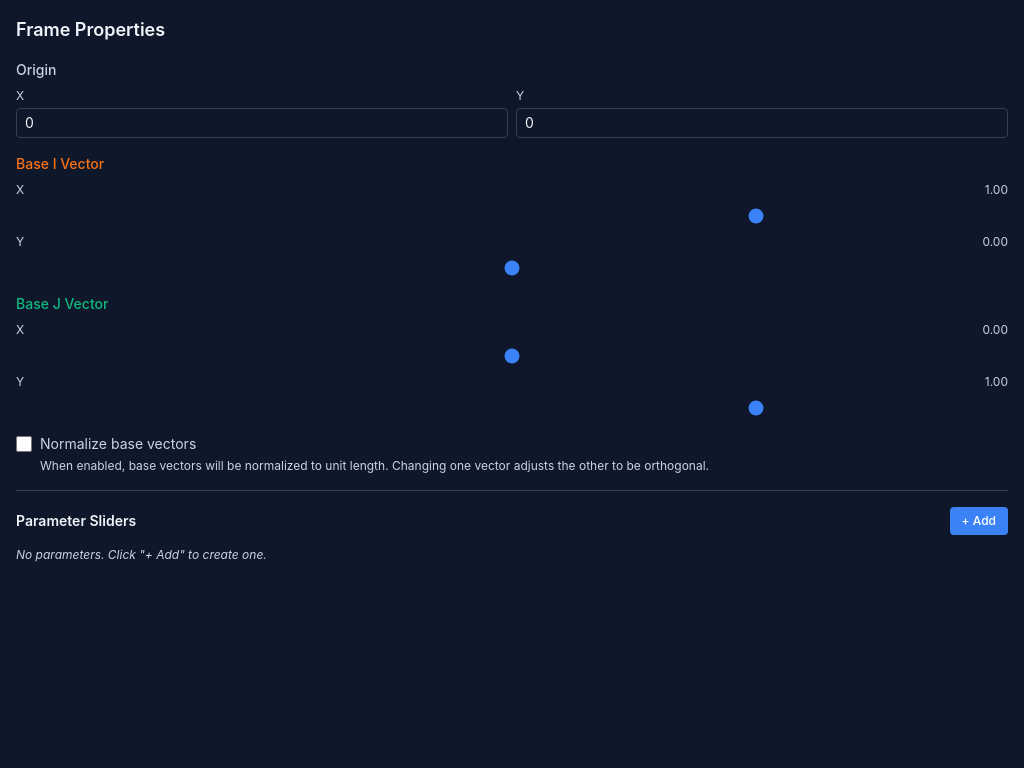
Test case: PropertiesPanel › shows error for invalid number input
Replace the text in the 1st number field showing "0" with "invalid" at {"x": 262, "y": 123}, box [16,108,508,138]
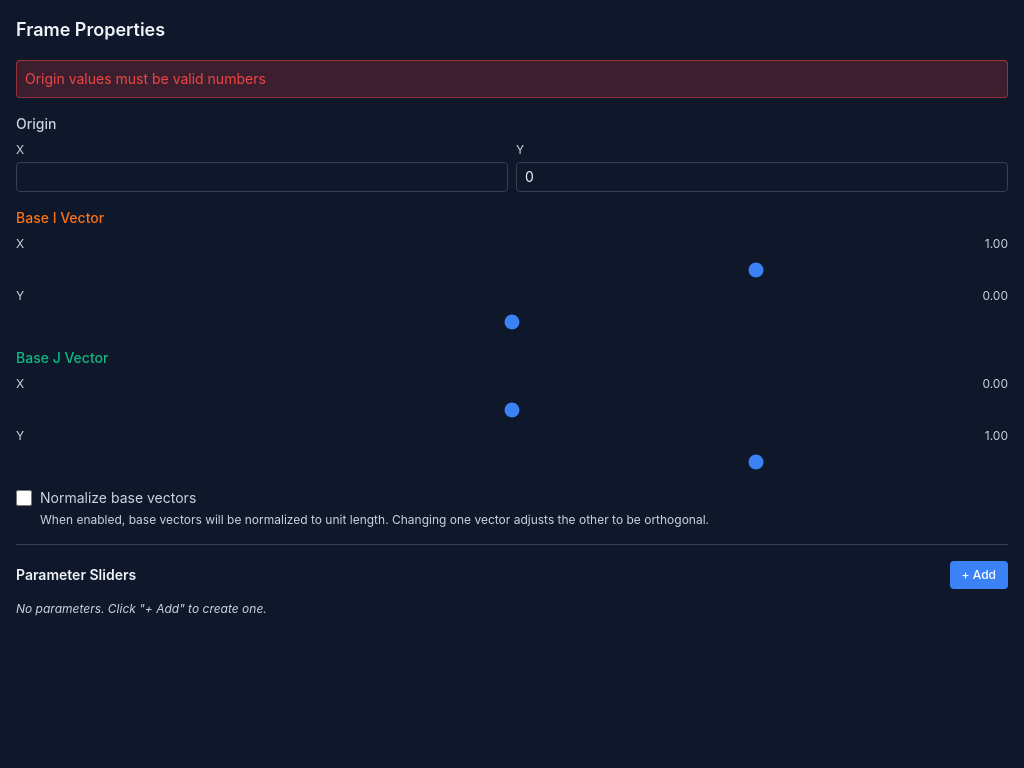
Expected: the text "Origin values must be valid numbers" is shown, [16,60,1008,98]
